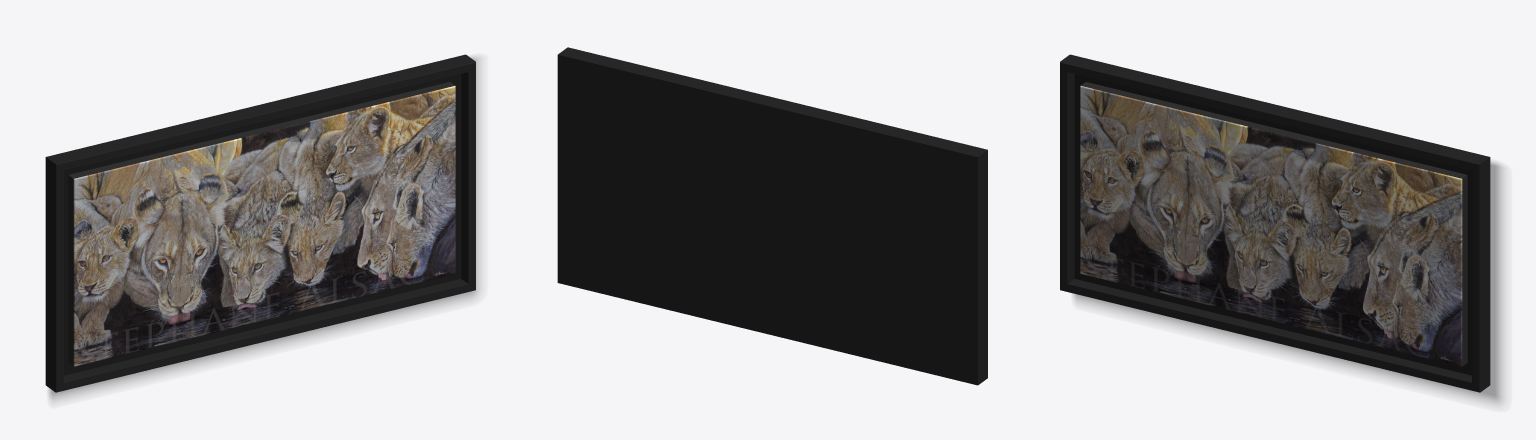
The model's file is tableau-lions-classique-6441ac69.glb.
3 renders of one model, left to right at view 1: azimuth 30°, elevation 25°; view 2: azimuth 150°, elevation 25°; view 3: azimuth 330°, elevation 25°, orthographic.
Parts seen in each view (by area): view 1: Painting; view 2: Painting; view 3: Painting.
Part boxes in pixels (left/top/right/bottom): Painting: left=45, top=54, right=478, bottom=400; Painting: left=557, top=47, right=987, bottom=385; Painting: left=1060, top=54, right=1502, bottom=403.
Bounding box in the file's own units: 1.08 × 0.626 × 0.04.
5 materials, 3 textured.
